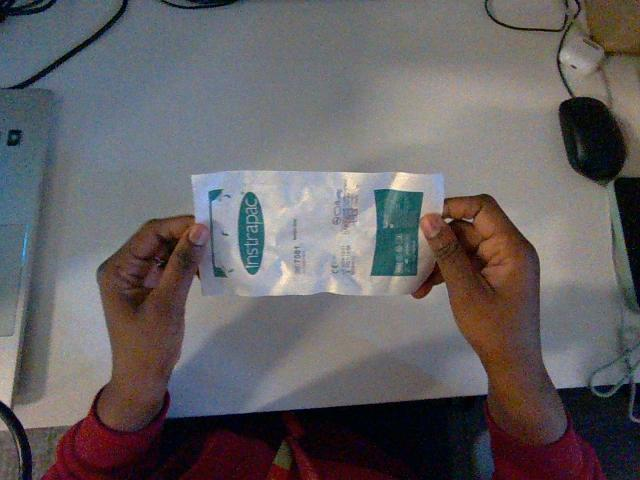gallipot: (192, 171, 443, 295)
